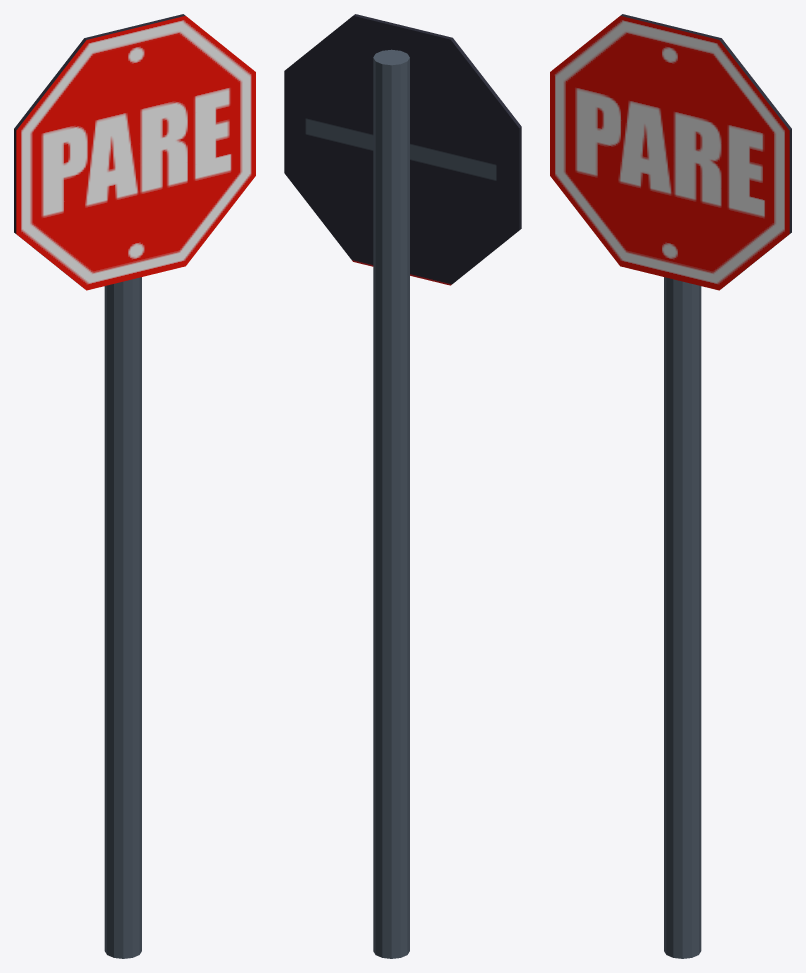
Rendered from Placa.fbx.
3 renders of one model, left to right at view 1: azimuth 30°, elevation 25°; view 2: azimuth 150°, elevation 25°; view 3: azimuth 330°, elevation 25°, orthographic.
Visible parts, largest first — view 1: PlacaTransito; view 2: PlacaTransito; view 3: PlacaTransito.
Part boxes in pixels (<box>): PlacaTransito: <box>14,14,255,958</box>; PlacaTransito: <box>284,14,521,958</box>; PlacaTransito: <box>550,14,791,958</box>.
Bounding box in the file's own units: 73.91 × 275 × 11.87.
